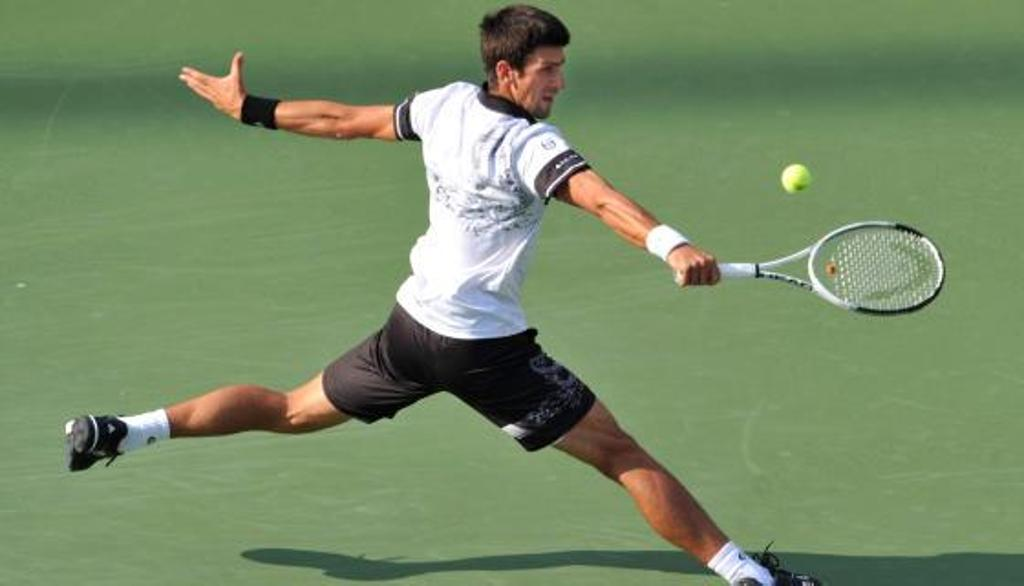face: (511, 46, 566, 117)
